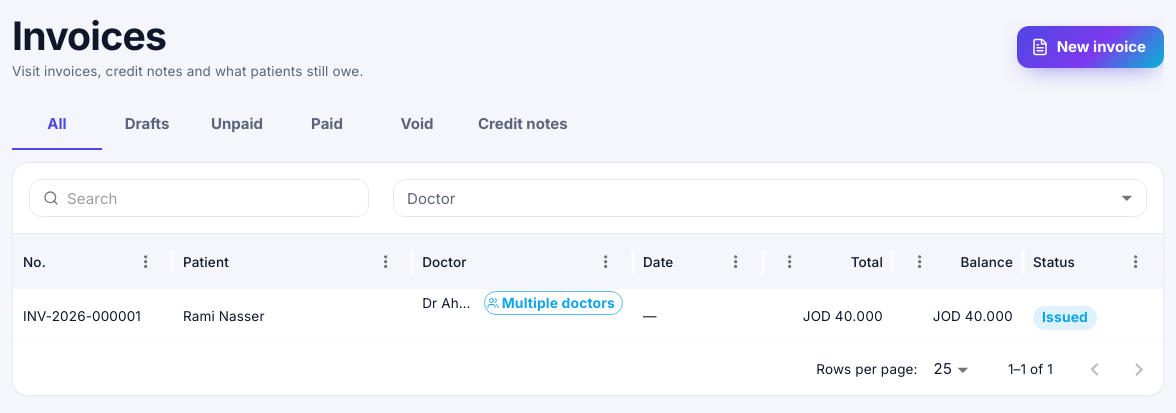
Test: doctor filter › offers every billable doctor plus "All doctors"
This screenshot has width=1176, height=413.
Click the dropdown named "Doctor" at (770, 198), box [393,179,1147,218]
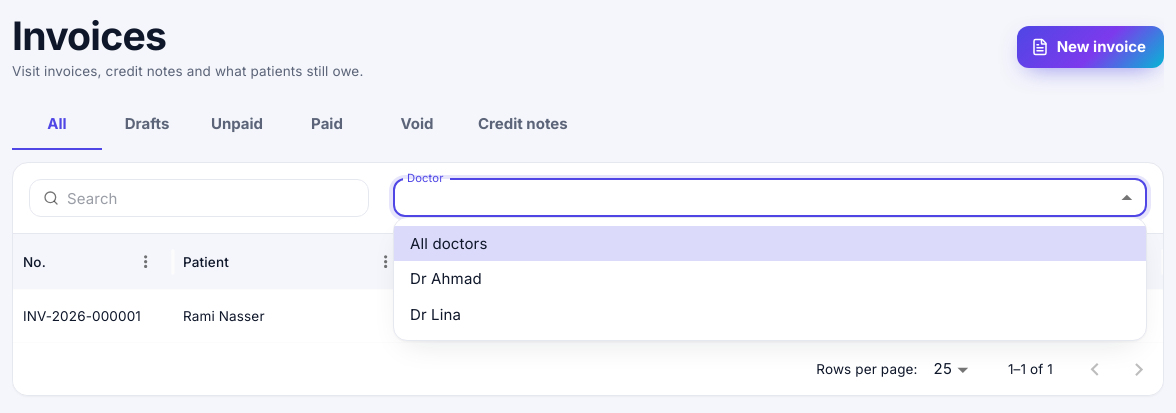
Now the options read "All doctors", "Dr Ahmad", "Dr Lina", in this order, box [394,226,1146,261]; [410,269,482,288]; [410,304,461,324]
